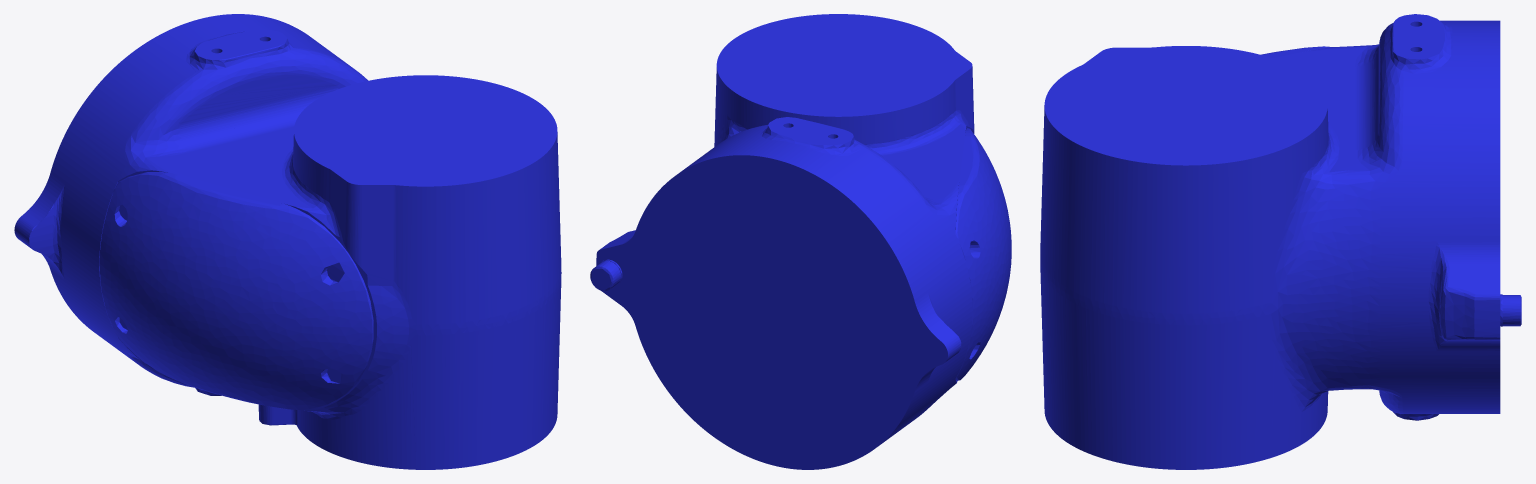
The picture shows the model from 3 angles, left to right: view 1: azimuth 30°, elevation 25°; view 2: azimuth 150°, elevation 25°; view 3: azimuth 270°, elevation 25°; orthographic projection. The views are drawn at different scales.
Parts seen in each view (by area): view 1: /Link1/Link1_001-mesh/0; view 2: /Link1/Link1_001-mesh/0; view 3: /Link1/Link1_001-mesh/0.
Part boxes in pixels (left/top/right/bottom): /Link1/Link1_001-mesh/0: left=14, top=14, right=561, bottom=469; /Link1/Link1_001-mesh/0: left=590, top=14, right=1011, bottom=469; /Link1/Link1_001-mesh/0: left=1040, top=14, right=1521, bottom=469.
Bounding box in the file's own units: 0.1978 × 0.166 × 0.2007.
